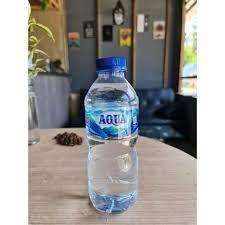BIODEGRADABLE: (75, 52, 155, 215)
